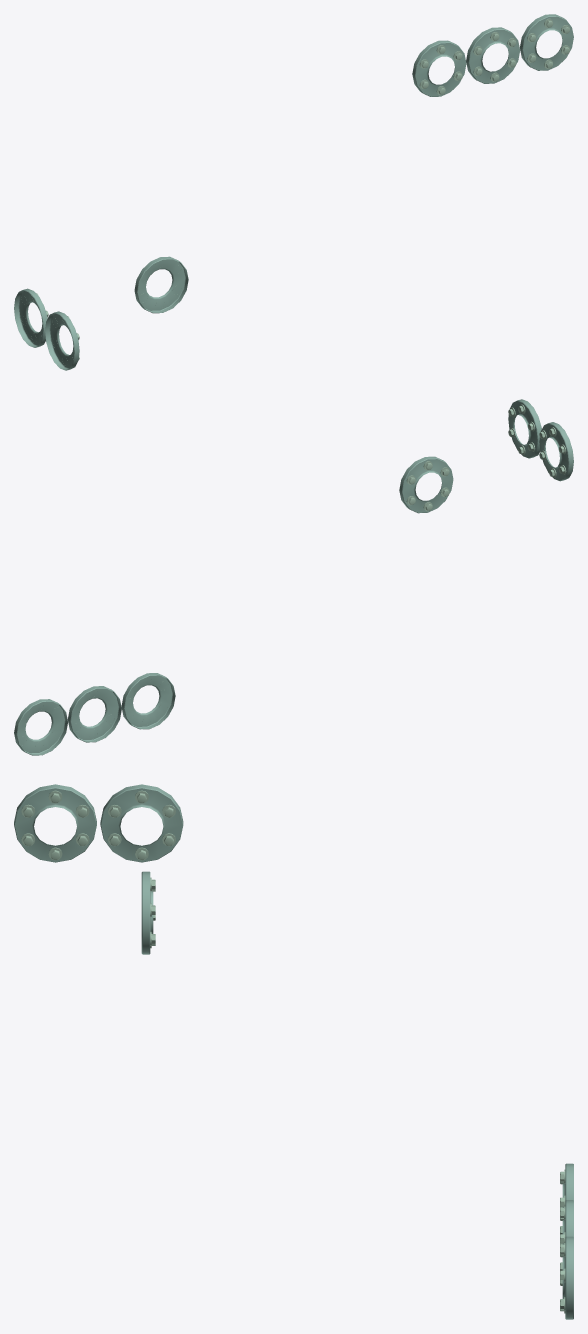
File: PipeComplexLarge_A3_18_End.fbx
The picture shows the model from 3 angles, top to bottom: view 1: azimuth 30°, elevation 25°; view 2: azimuth 210°, elevation 25°; view 3: azimuth 270°, elevation 25°; orthographic projection. The views are drawn at different scales.
Parts seen in each view (by area): view 1: PipeComplexLarge_A3_18_End.001; view 2: PipeComplexLarge_A3_18_End.001; view 3: PipeComplexLarge_A3_18_End.001.
Boxes of the visible parts, box(x1,y1,x2,y2) form: PipeComplexLarge_A3_18_End.001: box(14, 14, 573, 370); PipeComplexLarge_A3_18_End.001: box(14, 399, 573, 755); PipeComplexLarge_A3_18_End.001: box(14, 784, 573, 1319).
Size of the model in its own units: 5.19 by 0.3846 by 2.59.
